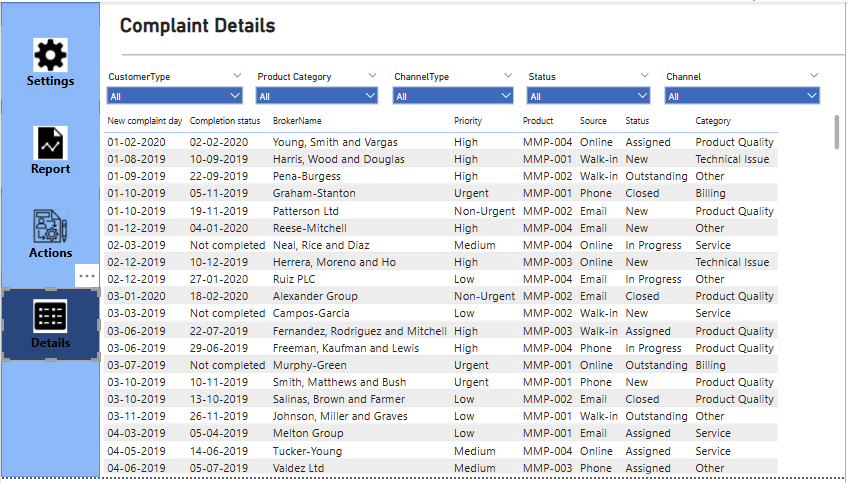

The dashboard page shown, as its layout file describes it:
{"tool":"powerbi","page":{"name":"Details","canvas":[1280,720],"ordinal":3},"visuals":[{"type":"shape","box":[0,0,150.1,720.4],"z":0},{"type":"shape","title":"Complaint Details","box":[180.5,18.2,335.2,34.9],"z":1000},{"type":"shape","box":[183.7,73.8,1096.3,11.4],"z":2000},{"type":"tableEx","fields":{"Values":["Sheet1.New complaint day","Sheet1.Completion status","Sheet1.BrokerName","Sheet1.Priority","Sheet1.Product","Sheet1.Source","Sheet1.Status","Sheet1.Category"]},"box":[149.6,164.7,1126.6,554.8],"z":3000},{"type":"slicer","fields":{"Values":["Sheet1.CustomerType"]},"box":[149.6,100.4,227.2,64.4],"z":4000},{"type":"slicer","fields":{"Values":["Sheet1.Product Category"]},"box":[376.8,100.4,206.4,64.4],"z":5000},{"type":"slicer","fields":{"Values":["Sheet1.ChannelType"]},"box":[583.2,100.4,204.5,64.4],"z":6000},{"type":"slicer","fields":{"Values":["Sheet1.Status"]},"box":[787.7,100.4,208.3,64.4],"z":7000},{"type":"slicer","fields":{"Values":["Sheet1.Channel"]},"box":[996,100.4,255.6,64.4],"z":8000},{"type":"actionButton","box":[0,36.4,150.1,112.2],"z":8004},{"type":"actionButton","box":[0,433.7,150.1,110.7],"z":8005},{"type":"actionButton","box":[0,297.3,150.1,110.7],"z":8006},{"type":"actionButton","box":[0,169.9,150.1,112.2],"z":8007}]}

Visuals, with their boxes on the page's 1280x720 design canvas (x1, y1, x2, y2). These are canvas units, not pixel positions in the 848x483 screenshot, which may show the page scaled, cropped or inside an application window:
shape: 0:0:150:720
"Complaint Details" shape: 180:18:516:53
shape: 184:74:1280:85
tableEx - Sheet1.New complaint day x Sheet1.Completion status: 150:165:1276:720
slicer - Sheet1.CustomerType: 150:100:377:165
slicer - Sheet1.Product Category: 377:100:583:165
slicer - Sheet1.ChannelType: 583:100:788:165
slicer - Sheet1.Status: 788:100:996:165
slicer - Sheet1.Channel: 996:100:1252:165
actionButton: 0:36:150:149
actionButton: 0:434:150:544
actionButton: 0:297:150:408
actionButton: 0:170:150:282
